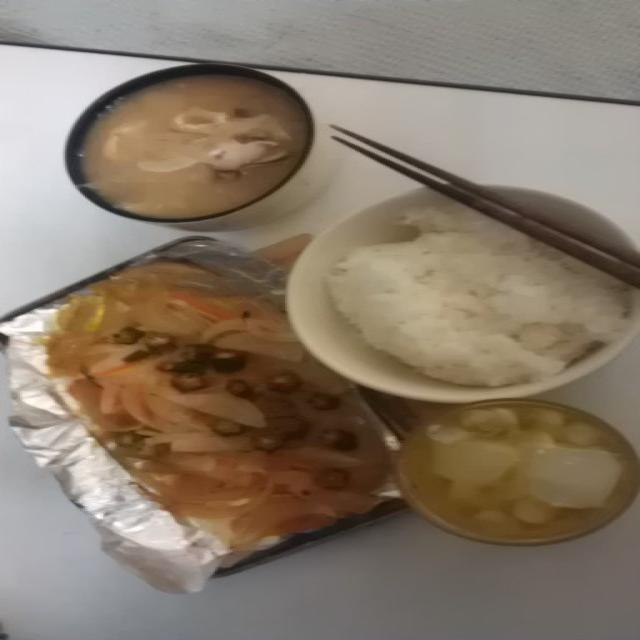Rice: (319, 203, 627, 382)
